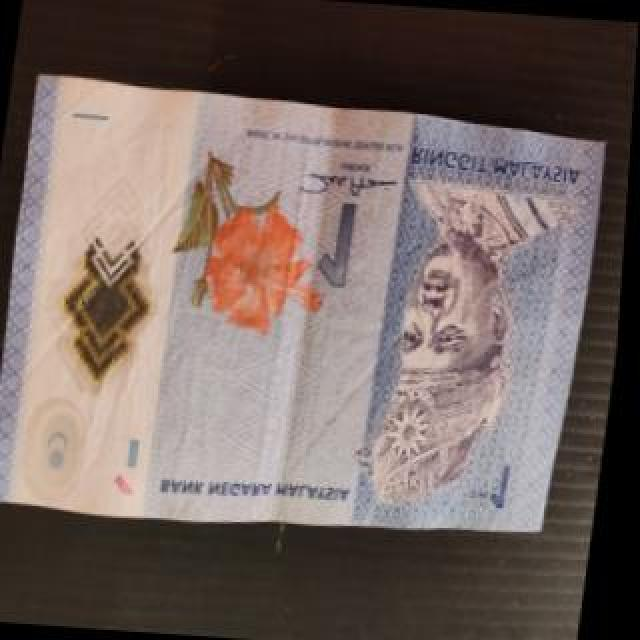1 Ringgit: (0, 66, 633, 552)
